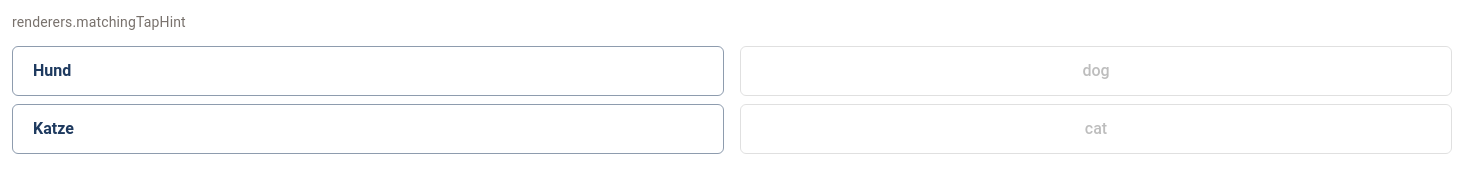
MatchingRenderer (tap-to-pair) › disables an unused translation until a term is selected
Expected: the button "cat" is disabled, x1=740 y1=104 x2=1452 y2=154
Click the button "Hund". click: (52, 70)
box: x1=12 y1=46 x2=724 y2=96
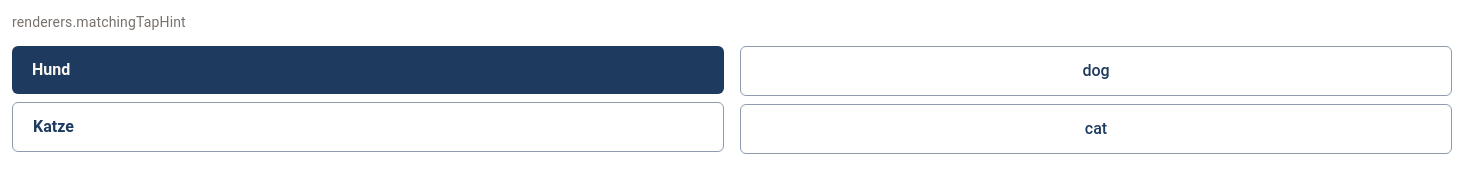
Result: the button "cat" is enabled at x1=740 y1=104 x2=1452 y2=154
